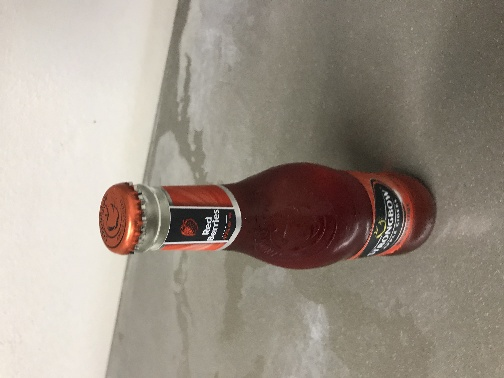SRB: (177, 123, 316, 189), (72, 132, 176, 184)
